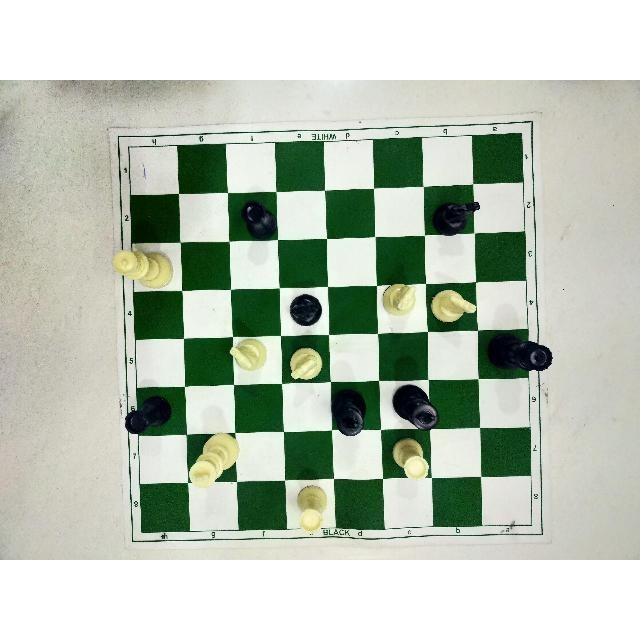black-king: (391, 379, 441, 435), (325, 387, 367, 439)
black-knight: (430, 194, 481, 239), (287, 290, 323, 331)
black-queen: (482, 335, 552, 373)
black-rook: (122, 391, 174, 438), (239, 195, 281, 242)
white-king: (183, 430, 241, 492)
white-knight: (429, 286, 479, 331), (287, 343, 325, 384), (227, 337, 269, 373), (381, 280, 417, 318)
white-queen: (112, 248, 176, 289)
white-rook: (390, 433, 431, 483), (294, 478, 329, 532)
